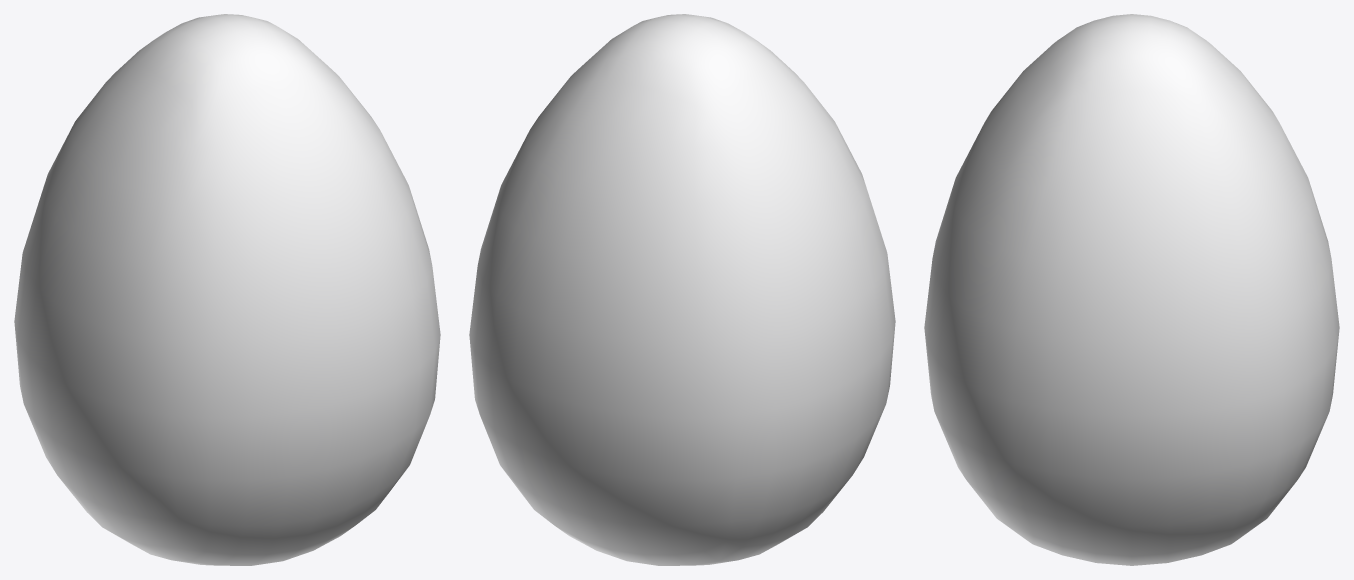
Rendered from Farm_14_Egg_1.glb.
3 views of the same model, side by side, from view 1: azimuth 30°, elevation 25°; view 2: azimuth 150°, elevation 25°; view 3: azimuth 270°, elevation 25° (orthographic).
Parts seen in each view (by area): view 1: Farm_14_Egg_1; view 2: Farm_14_Egg_1; view 3: Farm_14_Egg_1.
Part boxes in pixels (bbox=[...]): Farm_14_Egg_1: bbox=[14, 14, 440, 565]; Farm_14_Egg_1: bbox=[469, 14, 895, 565]; Farm_14_Egg_1: bbox=[924, 14, 1339, 565].
Size of the model in its own units: 0.1667 by 0.2287 by 0.1667.
Materials: 1 (1 with a texture image).
